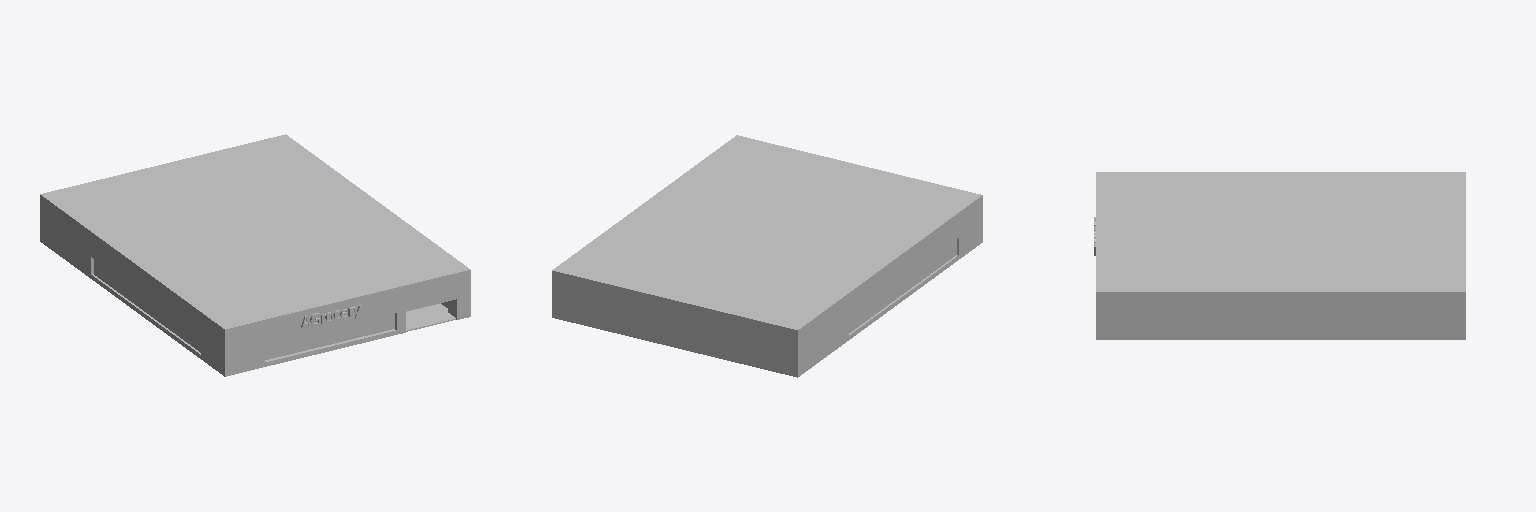
File: grocery_store.obj
The picture shows the model from 3 angles: view 1: azimuth 30°, elevation 25°; view 2: azimuth 150°, elevation 25°; view 3: azimuth 270°, elevation 25°; orthographic projection.
Visible parts, largest first — view 1: building_building, front_window_front_window, side_window_side_window, floor1_floor1; view 2: building_building, side_window_side_window; view 3: building_building.
Part boxes in pixels (left/top/right/bottom): building_building: left=40, top=134, right=470, bottom=376; front_window_front_window: left=265, top=313, right=394, bottom=359; side_window_side_window: left=94, top=259, right=200, bottom=352; floor1_floor1: left=406, top=303, right=455, bottom=331; building_building: left=552, top=135, right=982, bottom=377; side_window_side_window: left=849, top=240, right=956, bottom=332; building_building: left=1096, top=172, right=1465, bottom=339.
Size of the model in its own units: 39.07 by 7.18 by 51.21.